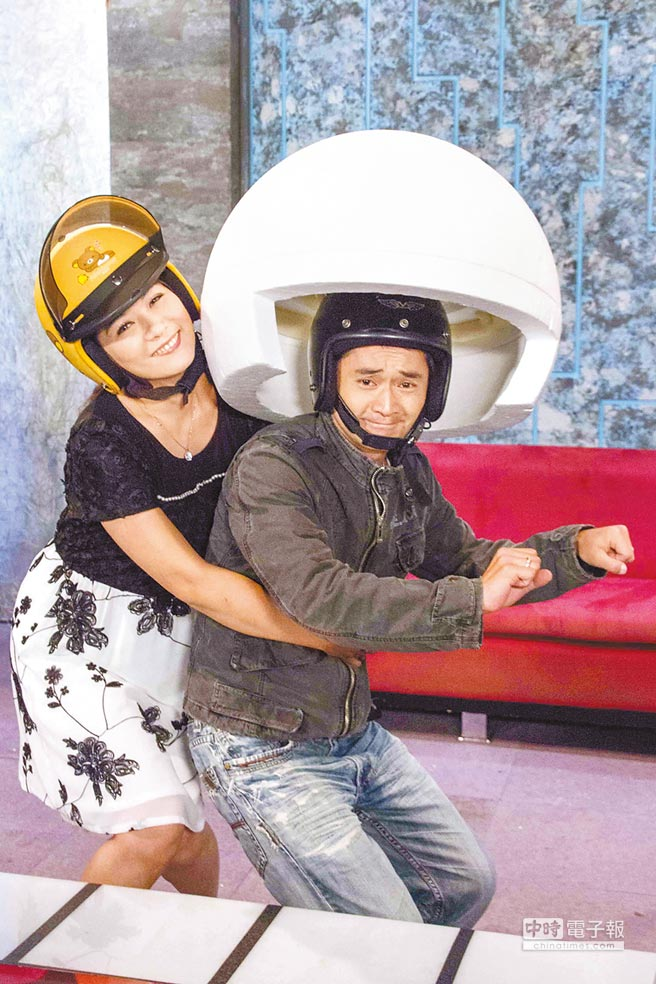helmet: (29, 221, 198, 373), (300, 289, 468, 403)
